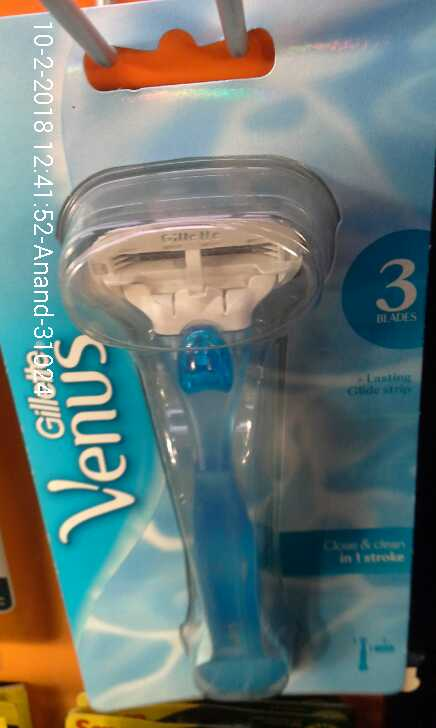venus: (67, 140, 313, 719)
